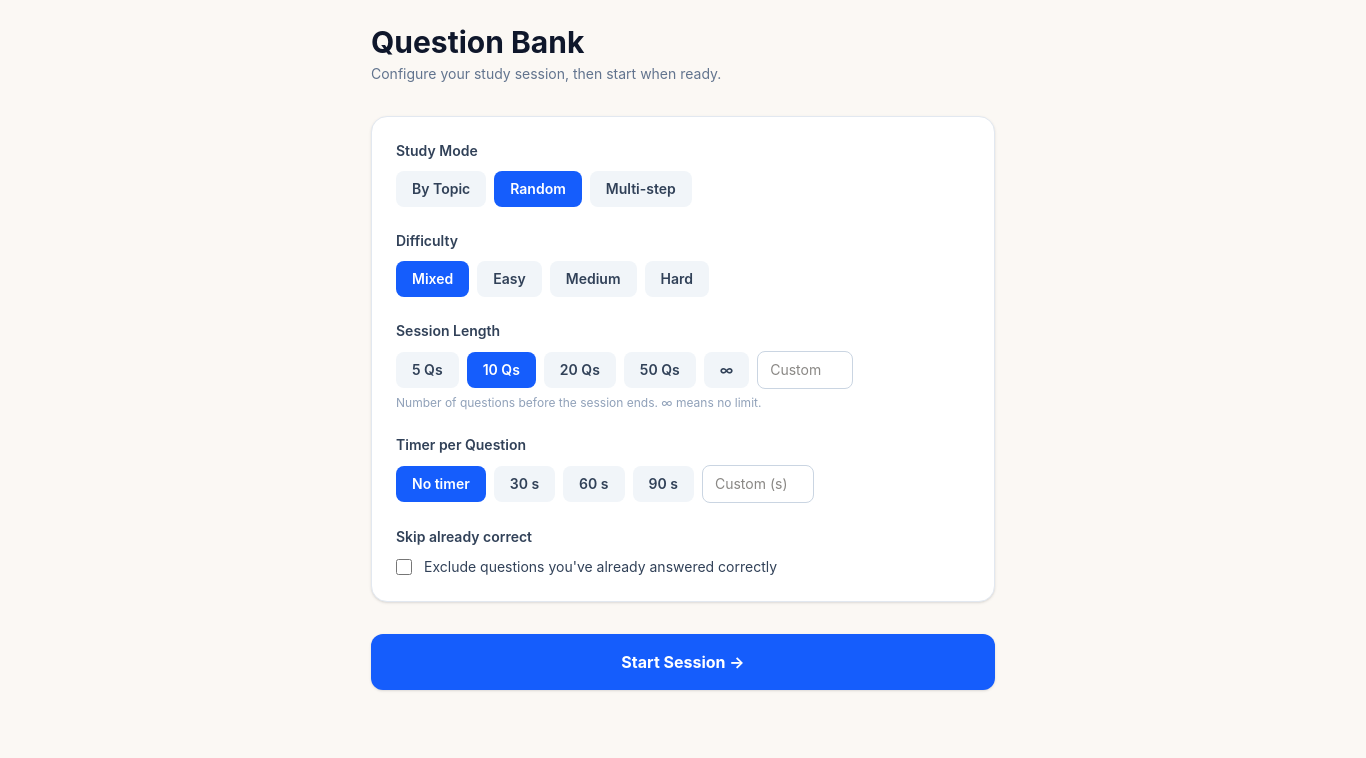
it: QuestionsPage › shows Incorrect feedback when answer is wrong
Step 1. Click the button "Start Session →" → (683, 662), box [371,634,995,690]
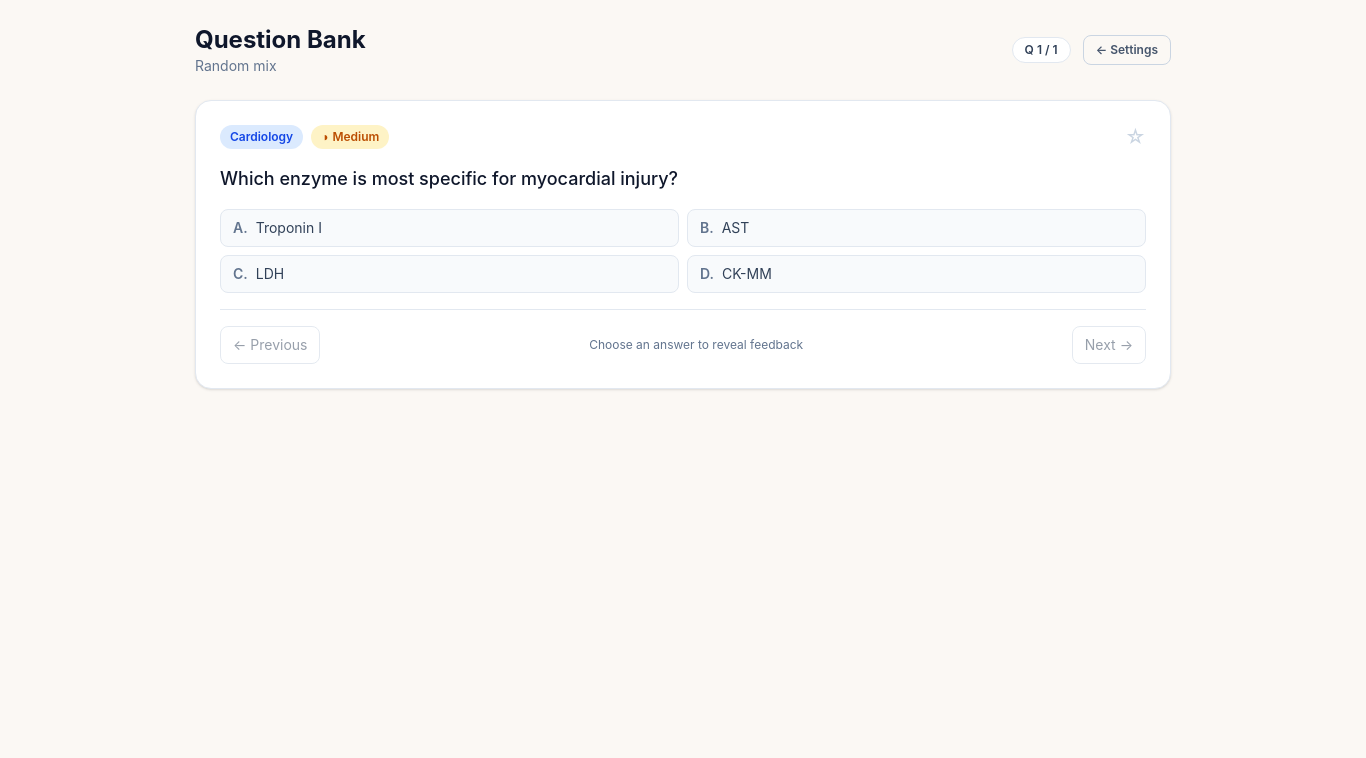
Expected: the text "Which enzyme is most specific for myocardial injury?" is shown, [220,168,678,189]
Step 2. Click the button "B.AST" → (705, 228), box [687,209,1146,247]
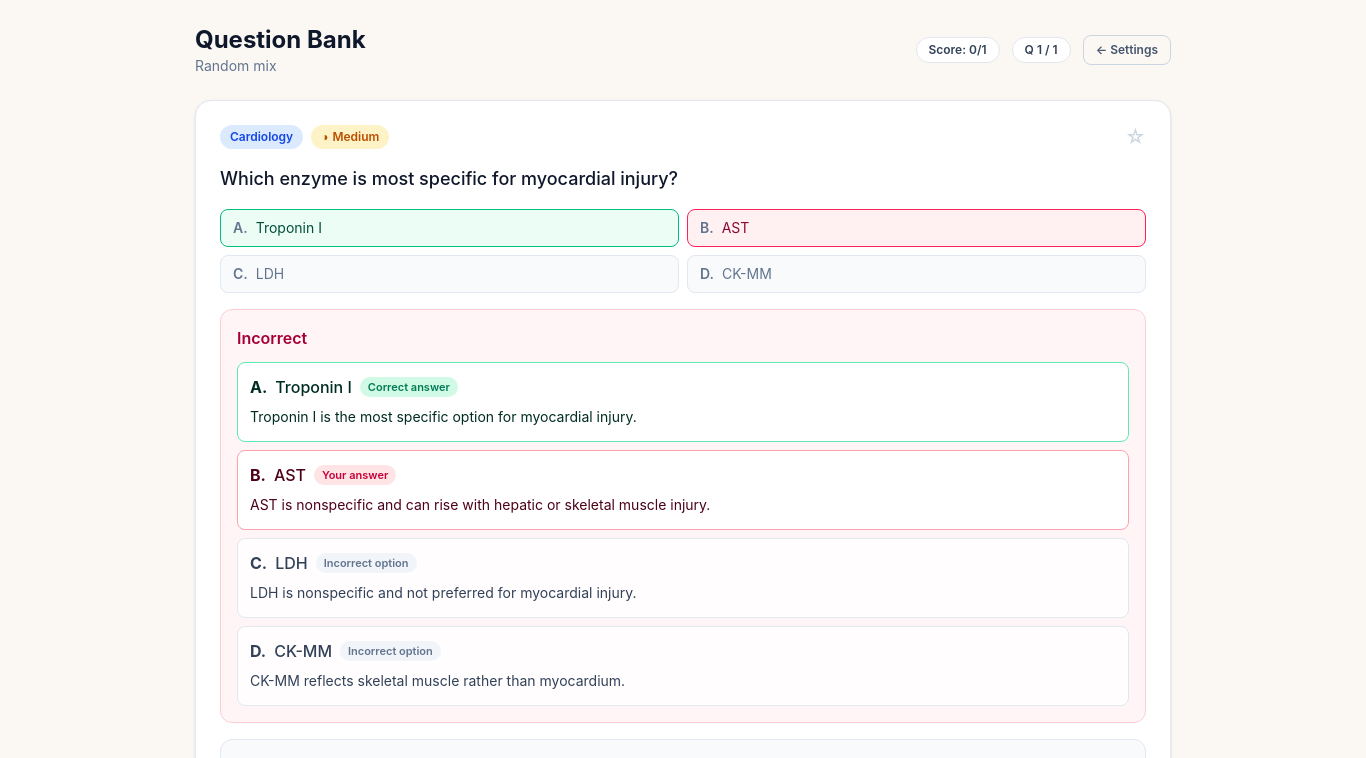
Expected: the text "Incorrect" is shown, [237,328,307,348]
